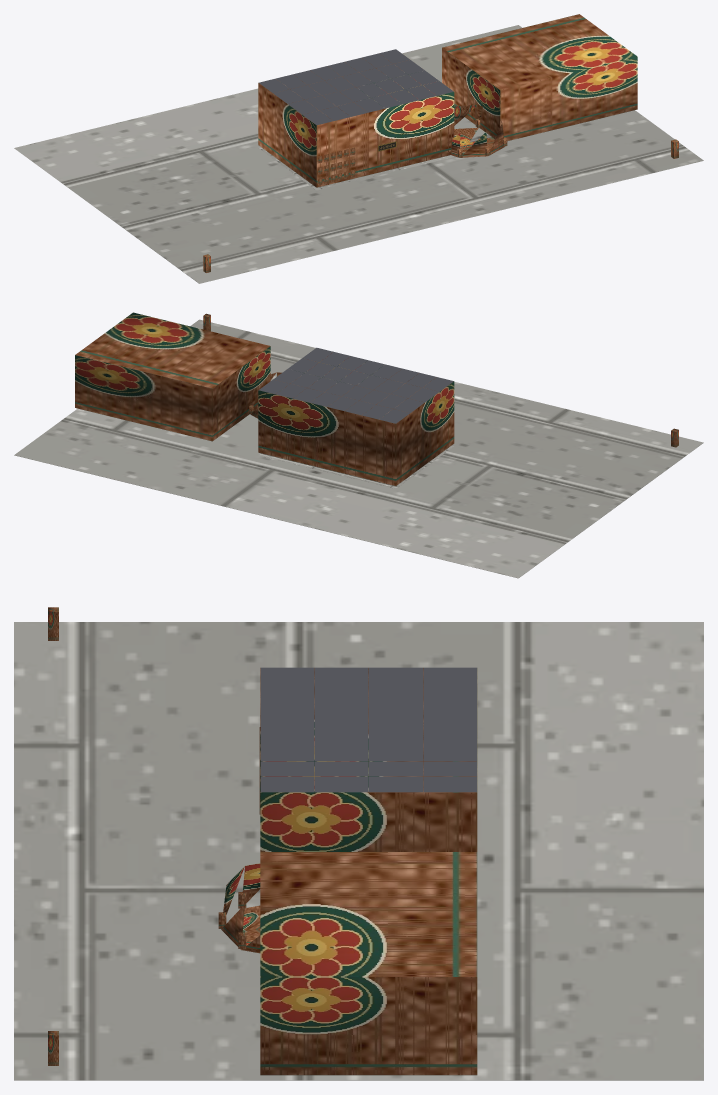
The picture shows the model from 3 angles, top to bottom: view 1: azimuth 30°, elevation 25°; view 2: azimuth 150°, elevation 25°; view 3: azimuth 270°, elevation 25°; orthographic projection. The views are drawn at different scales.
Parts seen in each view (by area): view 1: 11710_01_05799_037_01_L2__base, 11710_01_05799_037_02_L2__body, 11710_01_05799_037_03_L2__roof, 11710_01_05799_037_05_L2__openings; view 2: 11710_01_05799_037_01_L2__base, 11710_01_05799_037_02_L2__body, 11710_01_05799_037_03_L2__roof; view 3: 11710_01_05799_037_01_L2__base, 11710_01_05799_037_02_L2__body, 11710_01_05799_037_03_L2__roof, 11710_01_05799_037_06_L2__green.
Boxes of the visible parts, x1,y1,x2,y2 form: 11710_01_05799_037_01_L2__base: (14, 25, 703, 283); 11710_01_05799_037_02_L2__body: (258, 14, 637, 187); 11710_01_05799_037_03_L2__roof: (259, 49, 453, 125); 11710_01_05799_037_05_L2__openings: (317, 147, 355, 185); 11710_01_05799_037_01_L2__base: (14, 319, 703, 578); 11710_01_05799_037_02_L2__body: (75, 312, 454, 485); 11710_01_05799_037_03_L2__roof: (259, 347, 453, 423); 11710_01_05799_037_01_L2__base: (14, 622, 703, 1080); 11710_01_05799_037_02_L2__body: (218, 668, 477, 1075); 11710_01_05799_037_03_L2__roof: (260, 667, 476, 792); 11710_01_05799_037_06_L2__green: (48, 607, 58, 1065).
Size of the model in its own units: 220 by 27.22 by 140.
5 materials, 5 textured.
